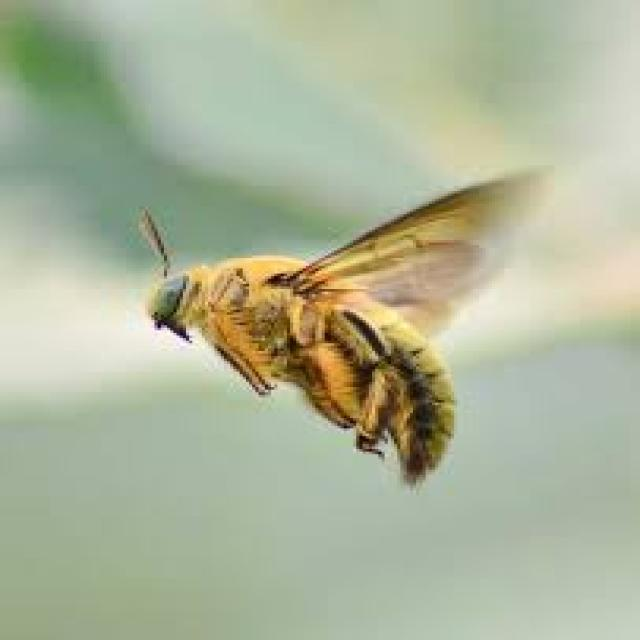Xylocopa: (110, 159, 536, 485)
